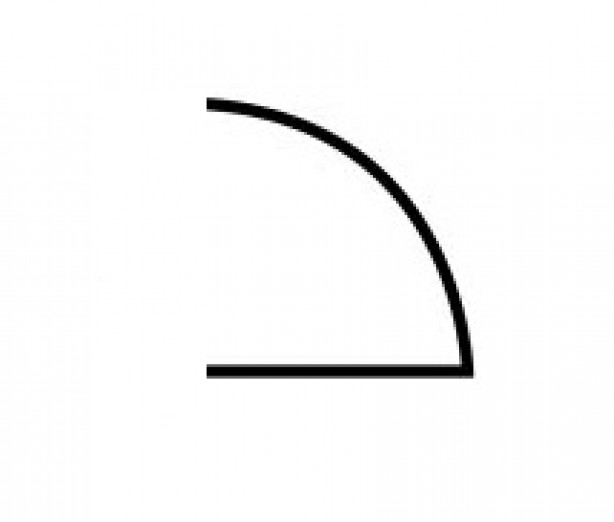door: (133, 55, 518, 413)
